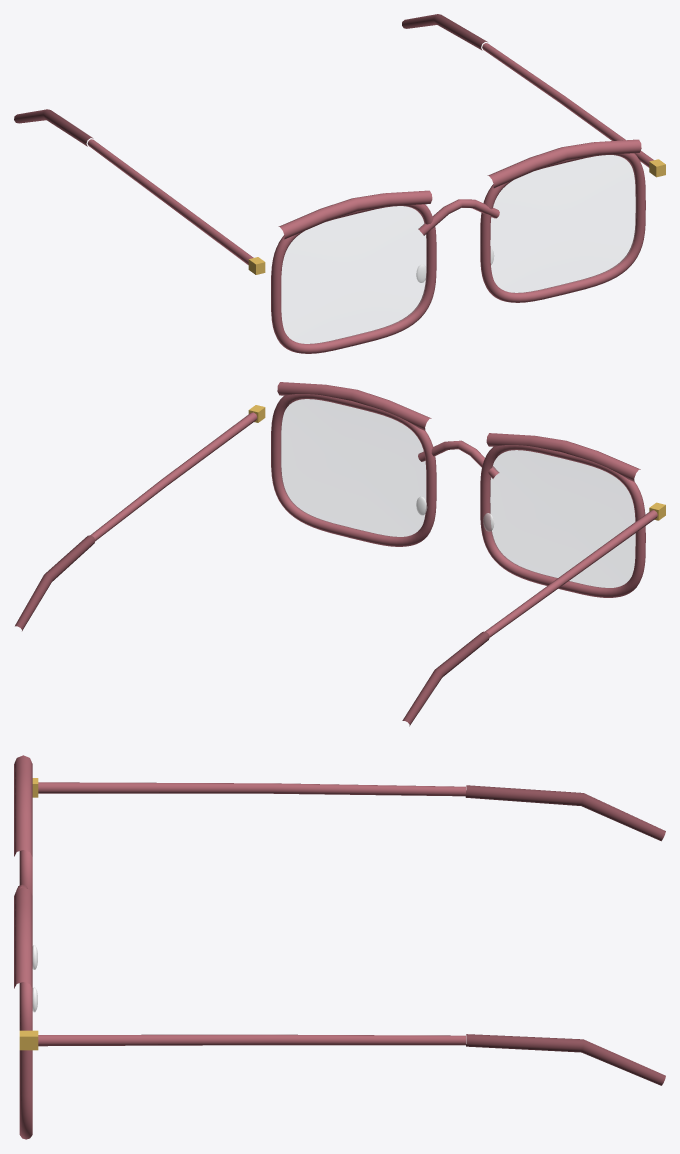
3 views of the same model, one above another, from view 1: azimuth 30°, elevation 25°; view 2: azimuth 150°, elevation 25°; view 3: azimuth 270°, elevation 25° (orthographic). The views are drawn at different scales.
Parts seen in each view (by area): view 1: Lens_L, Lens_R, Rim_R, Rim_L, BrowBar_R, BrowBar_L, Temple_L, Temple_R, TempleTip_R, TempleTip_L, Bridge; view 2: Lens_R, Lens_L, Rim_R, Rim_L, BrowBar_R, BrowBar_L, Temple_L, Temple_R, TempleTip_L, TempleTip_R, Bridge; view 3: Temple_R, Temple_L, TempleTip_L, TempleTip_R, Rim_R, BrowBar_R, BrowBar_L.
Boxes of the visible parts, box(x1,y1,x2,y2) form: Lens_L: box(281, 206, 426, 343); Lens_R: box(490, 155, 635, 292); Rim_R: box(480, 153, 645, 302); Rim_L: box(271, 204, 436, 353); BrowBar_R: box(487, 139, 641, 188); BrowBar_L: box(278, 190, 432, 239); Temple_L: box(87, 139, 253, 264); Temple_R: box(482, 43, 653, 167); TempleTip_R: box(402, 14, 487, 50); TempleTip_L: box(14, 109, 93, 146); Bridge: box(418, 199, 499, 235); Lens_R: box(281, 399, 425, 536); Lens_L: box(490, 450, 635, 587); Rim_R: box(271, 394, 436, 546); Rim_L: box(480, 445, 645, 597); BrowBar_R: box(277, 382, 431, 430); BrowBar_L: box(486, 433, 640, 481); Temple_L: box(485, 510, 657, 637); Temple_R: box(90, 412, 257, 540); TempleTip_L: box(402, 631, 489, 726); TempleTip_R: box(15, 535, 95, 630); Bridge: box(418, 440, 499, 478); Temple_R: box(38, 1034, 465, 1046); Temple_L: box(38, 782, 465, 796); TempleTip_L: box(465, 785, 665, 841); TempleTip_R: box(466, 1034, 665, 1085); Rim_R: box(19, 982, 32, 1139); BrowBar_R: box(14, 887, 32, 988); BrowBar_L: box(14, 755, 32, 856).
Bounding box in the file's own units: 2.62 × 0.904 × 2.79.
